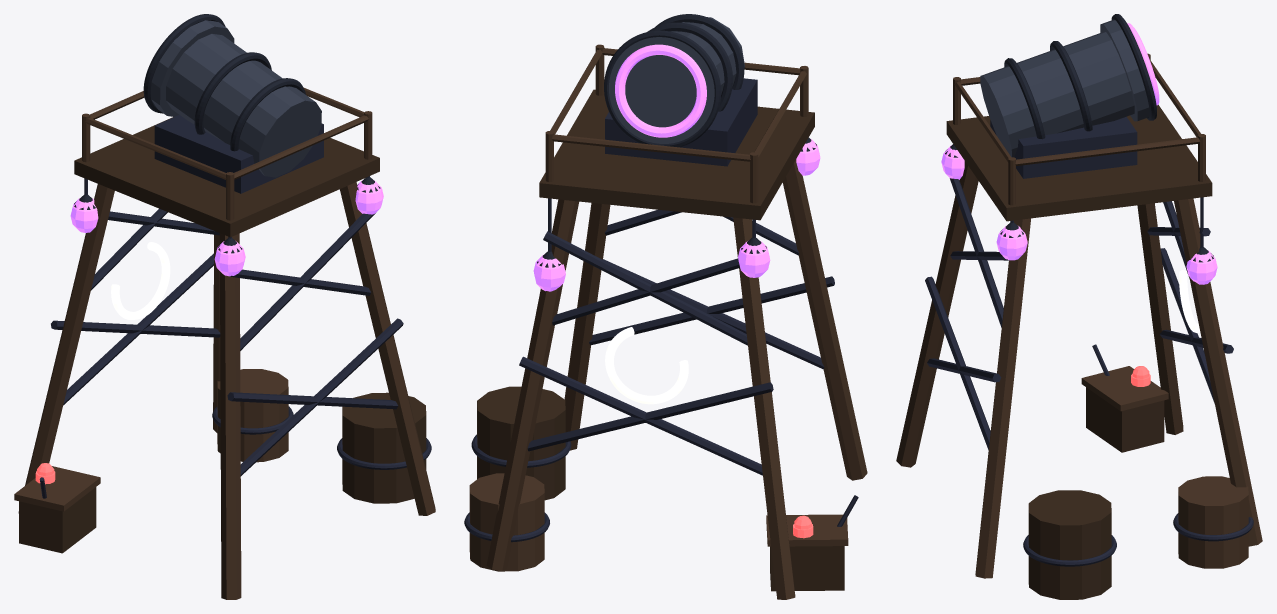
File: salute_launcher.glb
3 views of the same model, side by side, from view 1: azimuth 30°, elevation 25°; view 2: azimuth 150°, elevation 25°; view 3: azimuth 270°, elevation 25° (orthographic). The views are drawn at different scales.
Visible parts, largest first — view 1: FS_Wood, FS_WoodDark, FS_Iron, FS_Steel, FS_MetalDark, FS_EmitViolet, FS_EmitWarm; view 2: FS_Wood, FS_WoodDark, FS_Iron, FS_Steel, FS_MetalDark, FS_EmitVioletSoft, FS_EmitViolet, FS_EmitWarm; view 3: FS_Wood, FS_WoodDark, FS_Iron, FS_Steel, FS_MetalDark, FS_EmitViolet, FS_EmitWarm, FS_EmitVioletSoft.
Boxes of the visible parts, box(x1,y1,x2,y2) form: FS_Wood: box(14, 87, 435, 599); FS_WoodDark: box(19, 117, 426, 553); FS_Iron: box(39, 115, 431, 498); FS_Steel: box(151, 20, 321, 177); FS_MetalDark: box(74, 14, 380, 253); FS_EmitViolet: box(70, 180, 383, 276); FS_EmitWarm: box(111, 242, 170, 319); FS_Wood: box(469, 44, 867, 599); FS_WoodDark: box(477, 89, 844, 591); FS_Iron: box(464, 78, 858, 542); FS_Steel: box(609, 17, 744, 143); FS_MetalDark: box(537, 14, 816, 267); FS_EmitVioletSoft: box(615, 44, 706, 137); FS_EmitViolet: box(533, 139, 820, 291); FS_EmitWarm: box(605, 327, 688, 404); FS_Wood: box(896, 53, 1262, 578); FS_WoodDark: box(946, 104, 1212, 599); FS_Iron: box(925, 116, 1253, 566); FS_Steel: box(980, 20, 1149, 157); FS_MetalDark: box(945, 14, 1213, 262); FS_EmitViolet: box(941, 145, 1217, 284); FS_EmitWarm: box(1179, 270, 1200, 333); FS_EmitVioletSoft: box(1127, 23, 1159, 105).
Size of the model in its own units: 2.65 by 3.25 by 2.22.
